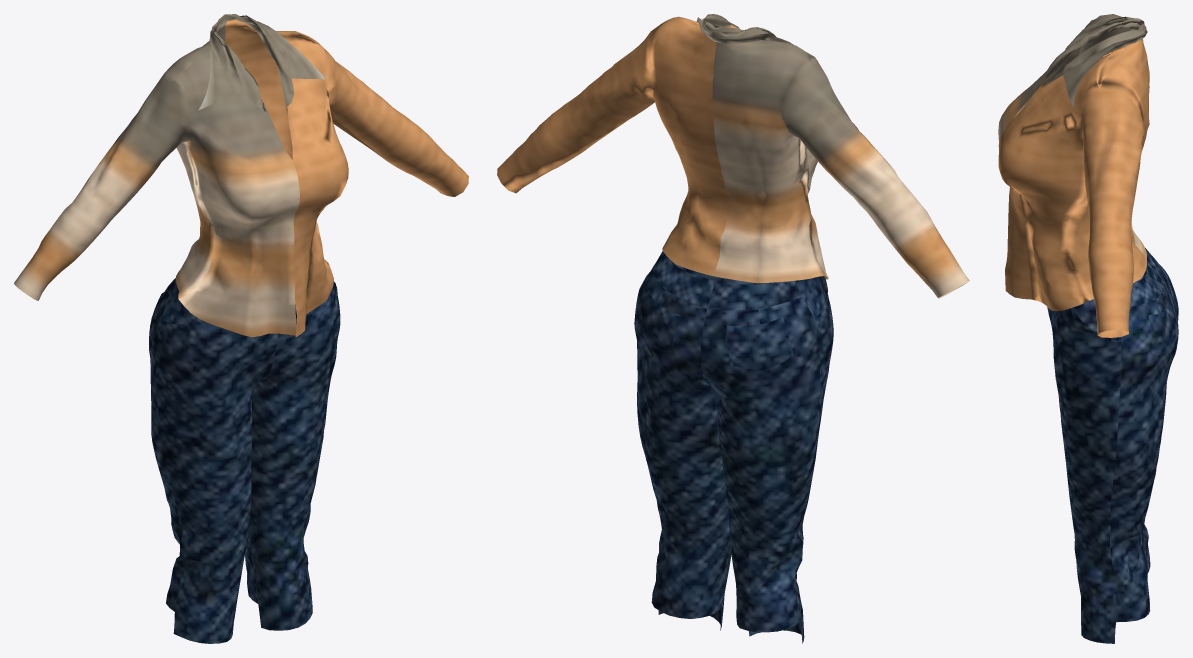
Rendered from camisayjeans.obj.
3 views of the same model, side by side, from view 1: azimuth 30°, elevation 25°; view 2: azimuth 150°, elevation 25°; view 3: azimuth 270°, elevation 25° (orthographic). The views are drawn at different scales.
Visible parts, largest first — view 1: Pattern2D_997965, Pattern2D_1452662, Pattern2D_406041, Pattern2D_1452663, Pattern2D_1452661, Pattern2D_5974, Pattern2D_903698, Pattern2D_650418, Pattern2D_903700, Pattern2D_412793, Pattern2D_647702, Pattern2D_997963; view 2: Pattern2D_412793, Pattern2D_997961, Pattern2D_903700, Pattern2D_1452663, Pattern2D_903698, Pattern2D_5974, Pattern2D_997959, Pattern2D_409953, Pattern2D_997965, Pattern2D_997960, Pattern2D_997962, Pattern2D_650418 (+2 smaller); view 3: Pattern2D_1452661, Pattern2D_406041, Pattern2D_997961, Pattern2D_5974, Pattern2D_903698, Pattern2D_647702, Pattern2D_650418, Pattern2D_997962, Pattern2D_1452662, Pattern2D_997960, Pattern2D_364175, Pattern2D_412793 (+2 smaller).
Part boxes in pixels (x1,y1,x2,y2): Pattern2D_997965: [155, 317, 278, 643]; Pattern2D_1452662: [178, 55, 299, 337]; Pattern2D_406041: [249, 281, 340, 630]; Pattern2D_1452663: [14, 72, 188, 300]; Pattern2D_1452661: [272, 36, 348, 336]; Pattern2D_5974: [315, 40, 468, 196]; Pattern2D_903698: [224, 20, 315, 159]; Pattern2D_650418: [198, 21, 325, 110]; Pattern2D_903700: [165, 21, 226, 298]; Pattern2D_412793: [149, 287, 182, 611]; Pattern2D_647702: [215, 14, 293, 112]; Pattern2D_997963: [161, 283, 196, 324]; Pattern2D_412793: [700, 296, 820, 632]; Pattern2D_997961: [634, 266, 730, 618]; Pattern2D_903700: [712, 40, 825, 283]; Pattern2D_1452663: [781, 56, 969, 298]; Pattern2D_903698: [650, 16, 727, 276]; Pattern2D_5974: [497, 24, 660, 193]; Pattern2D_997959: [727, 317, 793, 370]; Pattern2D_409953: [707, 280, 802, 310]; Pattern2D_997965: [749, 294, 833, 643]; Pattern2D_997960: [653, 252, 714, 308]; Pattern2D_997962: [636, 289, 681, 352]; Pattern2D_650418: [696, 17, 793, 44]; Pattern2D_1452661: [998, 51, 1113, 310]; Pattern2D_406041: [1047, 307, 1121, 643]; Pattern2D_997961: [1110, 283, 1177, 622]; Pattern2D_5974: [1078, 83, 1144, 337]; Pattern2D_903698: [1066, 39, 1149, 301]; Pattern2D_647702: [1043, 18, 1145, 84]; Pattern2D_650418: [1063, 16, 1147, 107]; Pattern2D_997962: [1148, 303, 1178, 355]; Pattern2D_1452662: [998, 15, 1104, 146]; Pattern2D_997960: [1130, 262, 1163, 306]; Pattern2D_364175: [1071, 299, 1097, 331]; Pattern2D_412793: [1142, 262, 1178, 573].
Size of the model in its own units: 1.03 by 1.32 by 0.3628.
